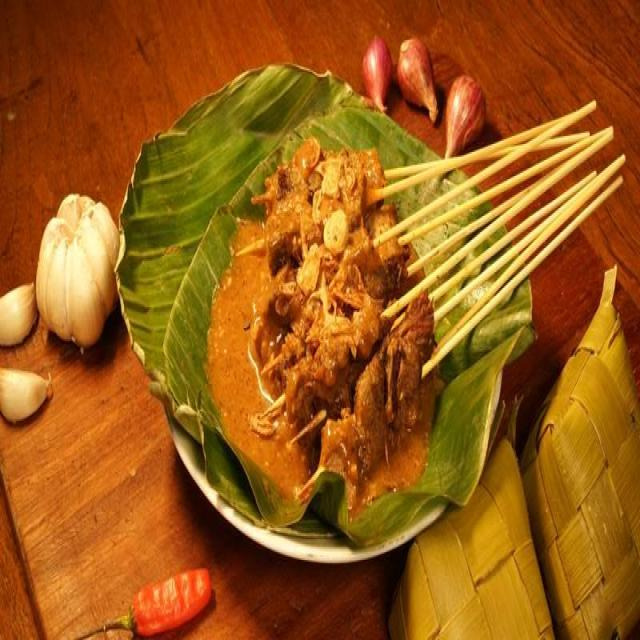Sate: (221, 129, 620, 472)
